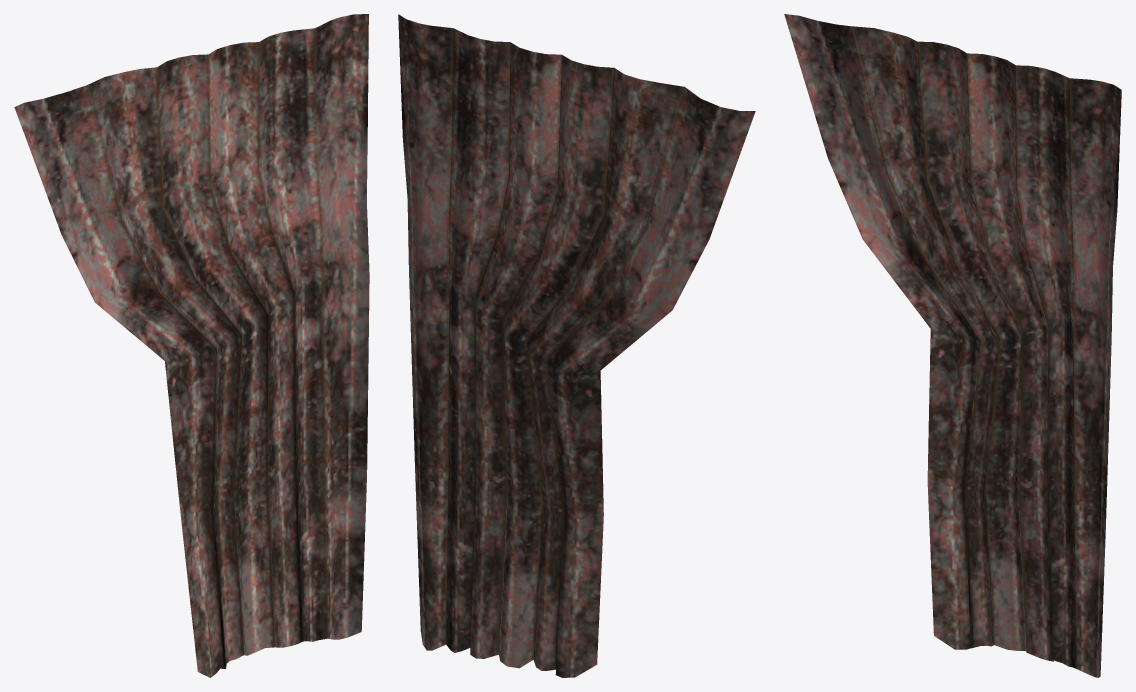
The model's file is Curtain_L.FBX.
3 views of the same model, side by side, from view 1: azimuth 30°, elevation 25°; view 2: azimuth 150°, elevation 25°; view 3: azimuth 330°, elevation 25° (orthographic). The views are drawn at different scales.
Visible parts, largest first — view 1: Curtain_L; view 2: Curtain_L; view 3: Curtain_L.
Part boxes in pixels (bbox=[...]): Curtain_L: bbox=[14, 14, 369, 677]; Curtain_L: bbox=[398, 14, 755, 677]; Curtain_L: bbox=[784, 14, 1121, 677].
Bounding box in the file's own units: 136 × 228 × 13.57.
